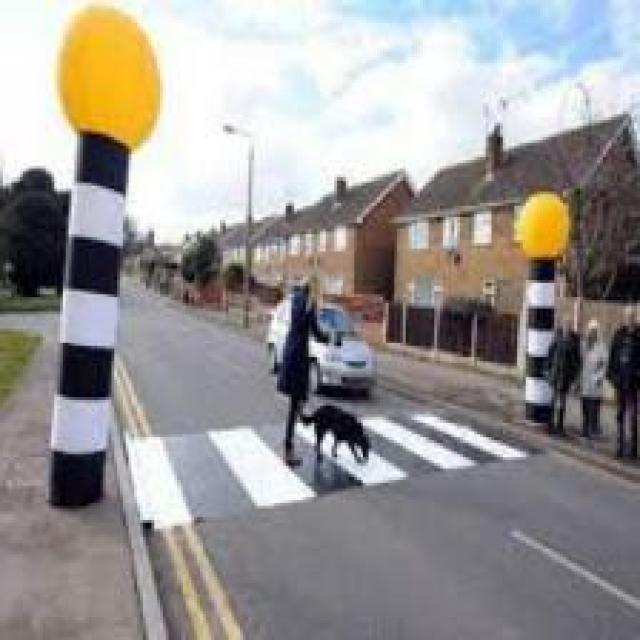crosswalk: (100, 405, 582, 539)
